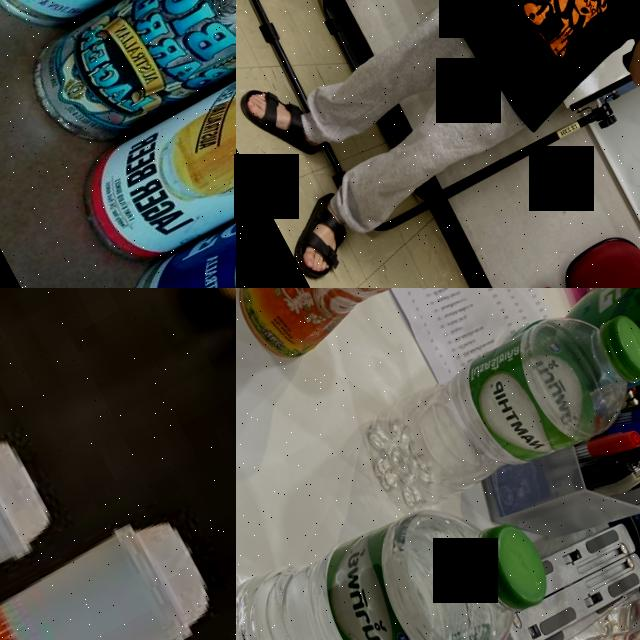bottle: (341, 288, 640, 539), (236, 452, 573, 640), (236, 288, 510, 376)
can: (57, 0, 236, 285), (2, 0, 236, 165), (99, 61, 236, 288)
cup: (0, 498, 231, 640)
